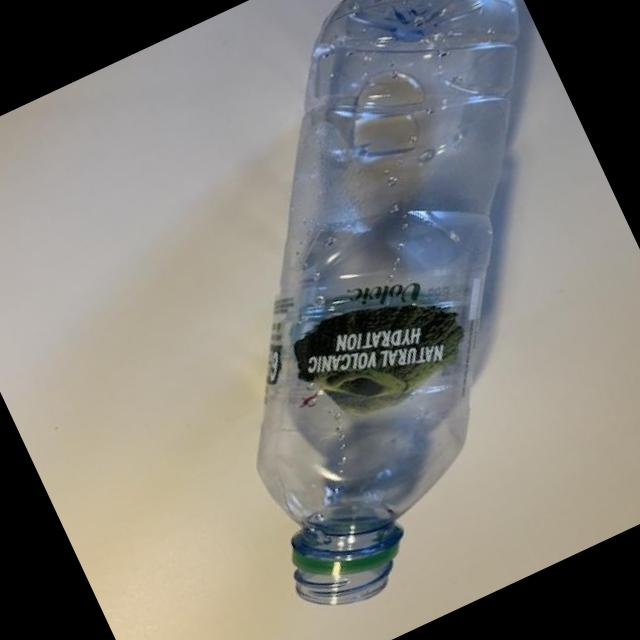BotolPlastik: (76, 0, 640, 628)
